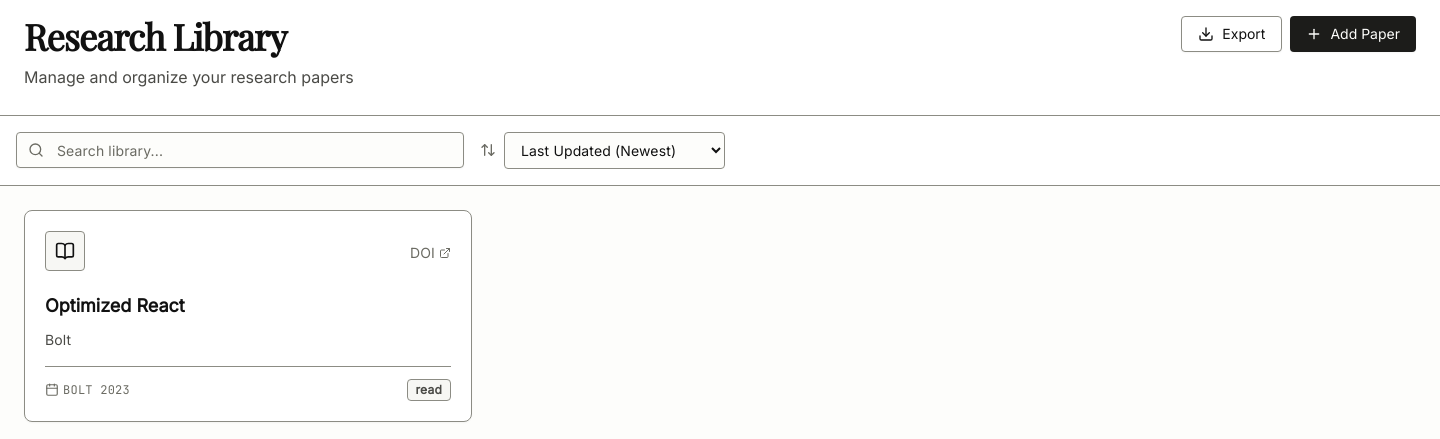
PapersView Search › shows clear button when typing and clears input on click
// Type something
Type "React" into the field with placeholder "Search library..." at (240,150), box [16, 132, 464, 168]
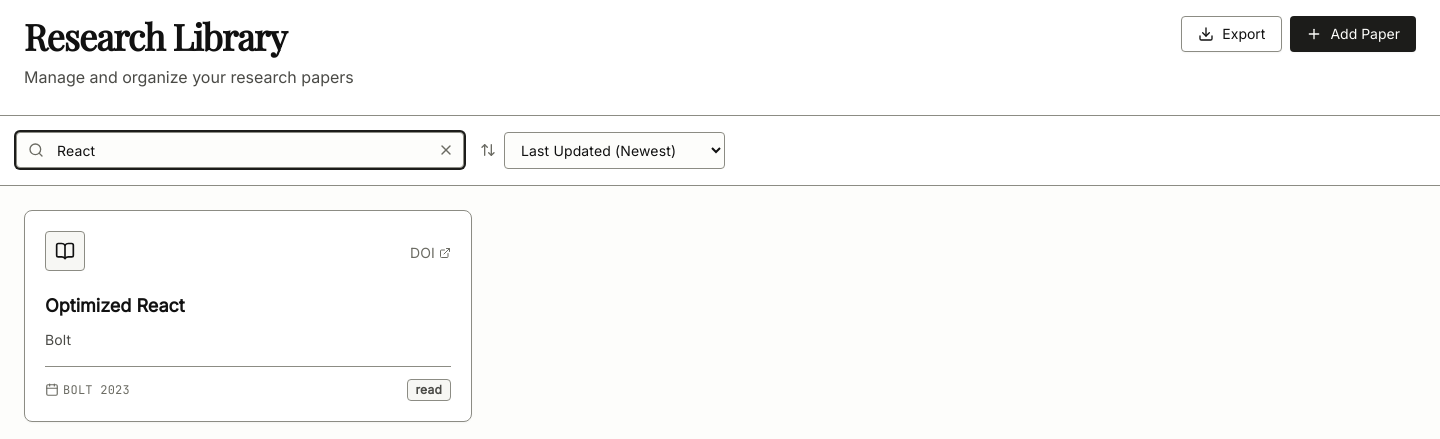
Expected: the button named "Clear search" is shown
// Click clear button
Click the button named "Clear search" at (446,150), box [428, 132, 464, 168]
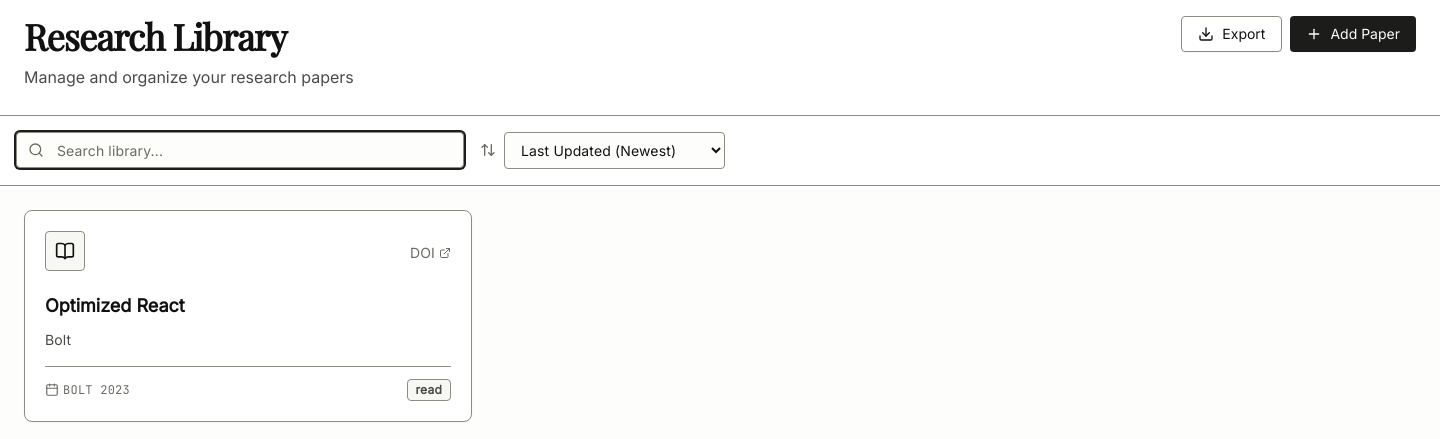
Expected: the field with placeholder "Search library..." is empty, [16, 132, 464, 168]
